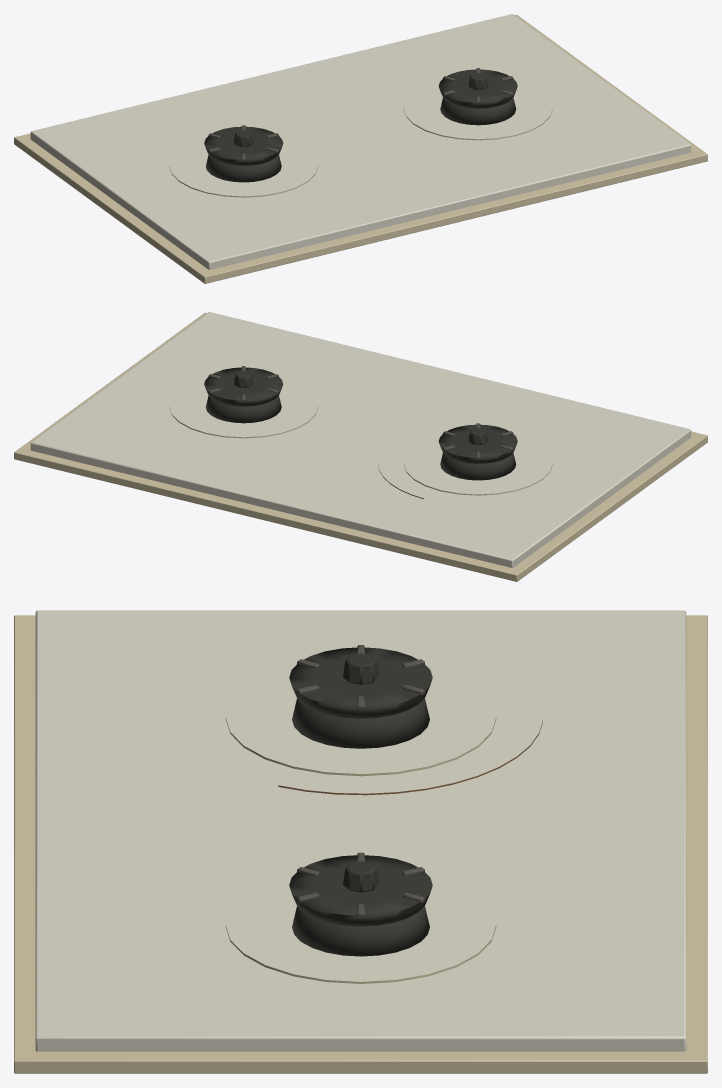
File: BepGas_Doi.glb
3 views of the same model, one above another, from view 1: azimuth 30°, elevation 25°; view 2: azimuth 150°, elevation 25°; view 3: azimuth 270°, elevation 25° (orthographic). The views are drawn at different scales.
Parts seen in each view (by area): view 1: BepGas_Doi; view 2: BepGas_Doi; view 3: BepGas_Doi, Men_OVang_QuanhMamDot, Men_OVang_QuanhMamDot.001.
Part boxes in pixels (x1=…): BepGas_Doi: x1=14, y1=14, x2=707, y2=283; BepGas_Doi: x1=14, y1=312, x2=707, y2=581; BepGas_Doi: x1=14, y1=610, x2=707, y2=1073; Men_OVang_QuanhMamDot: x1=225, y1=718, x2=496, y2=776; Men_OVang_QuanhMamDot.001: x1=225, y1=925, x2=496, y2=983.
Bounding box in the file's own units: 0.73 × 0.067 × 0.48.
